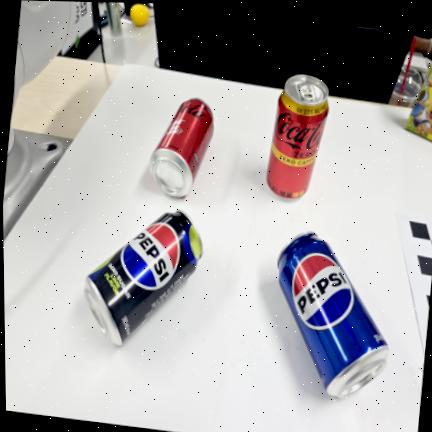can_coke_decaf: (266, 75, 329, 200)
can_coke_zero: (150, 98, 214, 197)
can_pepsi: (277, 232, 389, 398)
can_pepsi_zero: (84, 211, 203, 345)
